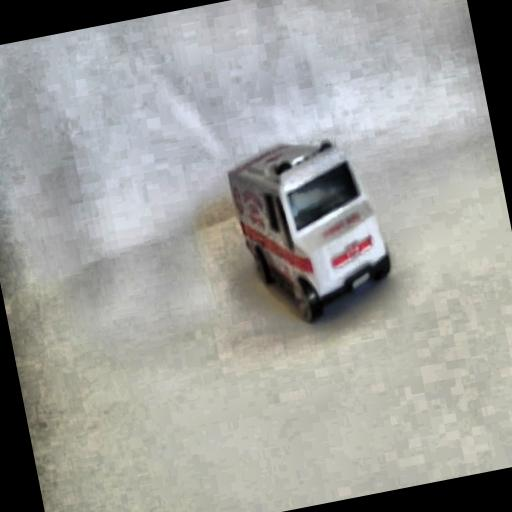ambulance: (223, 127, 400, 333)
